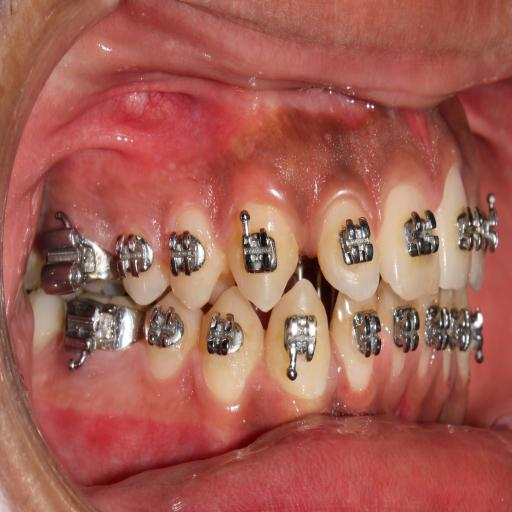correct_brace: (198, 281, 263, 413), (161, 192, 226, 311), (235, 205, 281, 279), (279, 310, 321, 381), (335, 212, 378, 274), (205, 309, 246, 368)
incorrect_brace: (316, 186, 384, 304), (164, 225, 208, 279)
